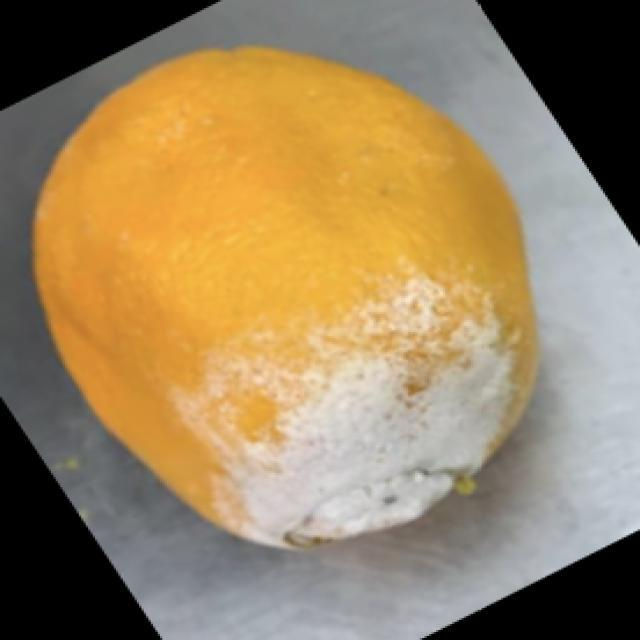sedikit-busuk: (34, 48, 535, 546), (181, 273, 516, 545)
